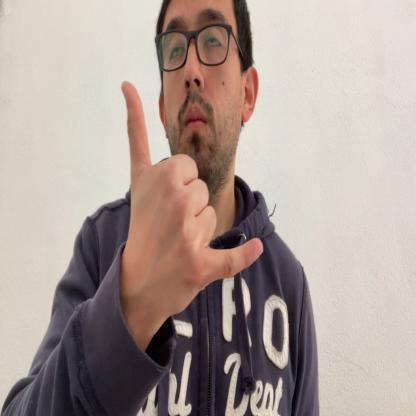Y: (121, 81, 263, 333)
